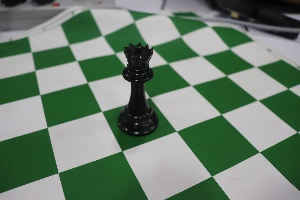black_queen: (107, 32, 164, 139)
